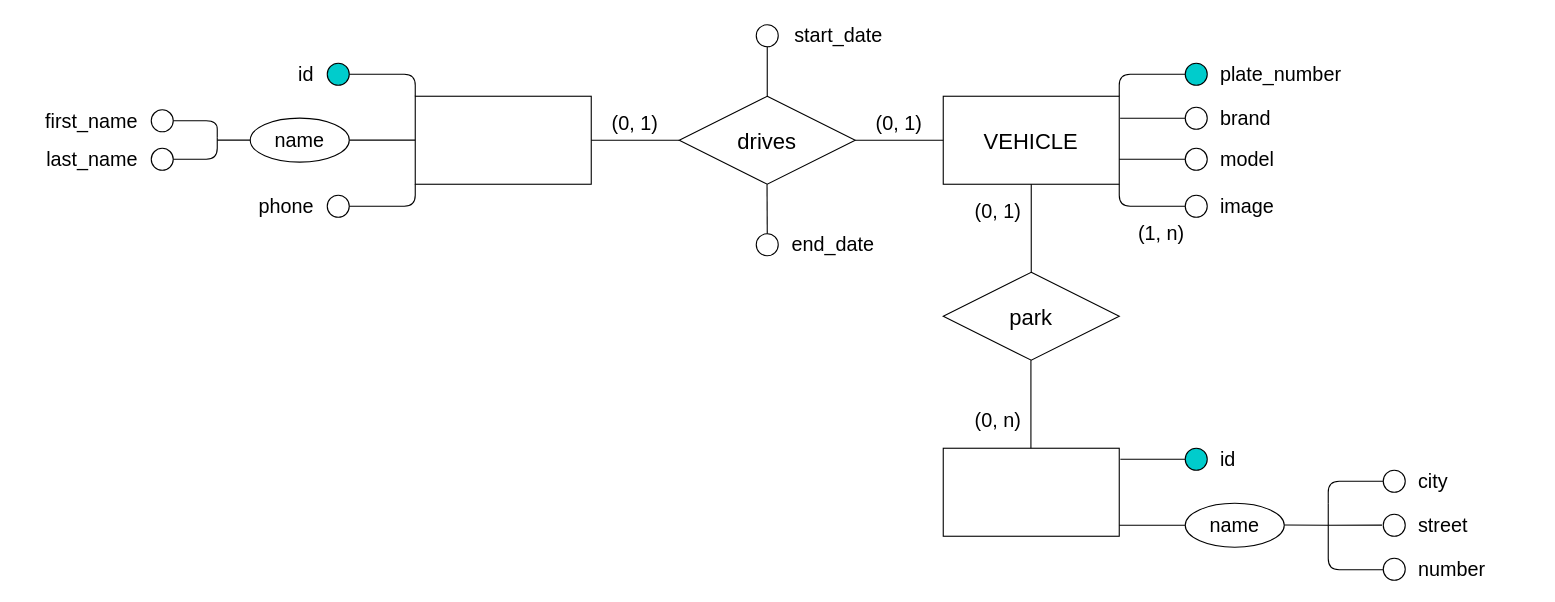
Image size: 1555x602. Some labels were removed from this diagram. Here are the shapes that lost their labels. From the top down, the centre of each, then its label:
(502,139): DRIVER
(1030,491): PARKING
